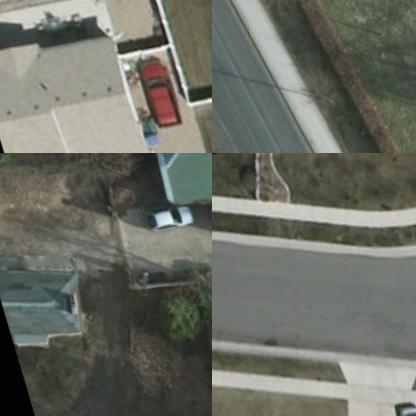car: (134, 53, 182, 126), (140, 192, 197, 230)
